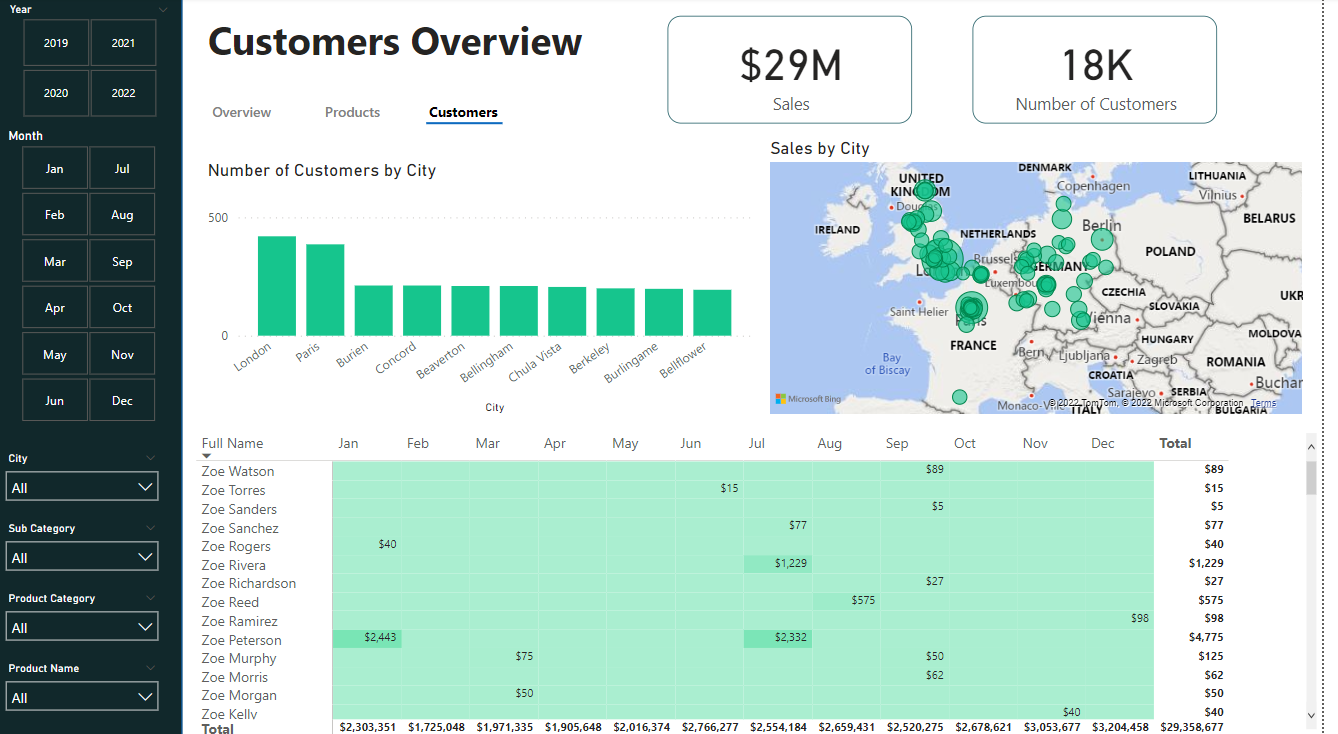

The dashboard page shown, as its layout file describes it:
{"tool":"powerbi","page":{"name":"Customer","canvas":[1280,720],"ordinal":2},"visuals":[{"type":"textbox","box":[200.5,11,337.9,63.2],"z":0},{"type":"shape","box":[0,0,180.9,720],"z":1000},{"type":"slicer","fields":{"Values":["Customer.City"]},"box":[0,433,167.6,53.1],"z":2000},{"type":"slicer","fields":{"Values":["Product.Product Category"]},"box":[0,568,167.6,53.1],"z":3000},{"type":"slicer","fields":{"Values":["Product.Sub Category"]},"box":[0,500.5,167.6,53.1],"z":4000},{"type":"slicer","fields":{"Values":["Product.Product Name"]},"box":[0,635.6,167.6,53.1],"z":5000},{"type":"pageNavigator","box":[189.5,100.3,313.1,22],"z":6000},{"type":"shape","box":[410.1,108.5,73.6,26.5],"z":7000},{"type":"slicer","fields":{"Values":["Calendar.Year"]},"box":[1.2,0,178.5,121.8],"z":8000},{"type":"slicer","fields":{"Values":["Calendar.ShortMon"]},"box":[0,121.8,178.5,294.3],"z":9000},{"type":"card","fields":{"Values":["_Measures.Sales"]},"box":[648.8,18.1,236.4,103.7],"z":10000},{"type":"pivotTable","fields":{"Values":["_Measures.Sales"],"Columns":["Calendar.ShortMon"],"Rows":["Customer.Full Name"]},"box":[189.3,416.1,1090.3,303.9],"z":11000},{"type":"card","fields":{"Values":["_Measures.Number of Customers"]},"box":[943.1,18.1,236.4,103.7],"z":12000},{"type":"clusteredColumnChart","fields":{"Y":["_Measures.Number of Customers"],"Category":["Customer.City"]},"box":[200.5,156.6,534.2,250],"z":13000},{"type":"map","fields":{"Category":["Customer.City"],"Size":["_Measures.Sales"]},"box":[742.9,135.1,523.4,272.6],"z":14000}]}

Visuals, with their boxes in screenshot pixels (x1, y1, x2, y2), scaled from the page's 1280x720 canvas onto the 1338x734 screenshot:
textbox: l=210, t=11, r=563, b=76
shape: l=0, t=0, r=189, b=733
slicer - Customer.City: l=0, t=441, r=175, b=496
slicer - Product.Product Category: l=0, t=579, r=175, b=633
slicer - Product.Sub Category: l=0, t=510, r=175, b=564
slicer - Product.Product Name: l=0, t=648, r=175, b=702
pageNavigator: l=198, t=102, r=525, b=125
shape: l=429, t=111, r=506, b=138
slicer - Calendar.Year: l=1, t=0, r=188, b=124
slicer - Calendar.ShortMon: l=0, t=124, r=187, b=424
card - _Measures.Sales: l=678, t=18, r=925, b=124
pivotTable - _Measures.Sales x Calendar.ShortMon: l=198, t=424, r=1337, b=733
card - _Measures.Number of Customers: l=986, t=18, r=1233, b=124
clusteredColumnChart - _Measures.Number of Customers x Customer.City: l=210, t=160, r=768, b=415
map - Customer.City x _Measures.Sales: l=777, t=138, r=1324, b=416
